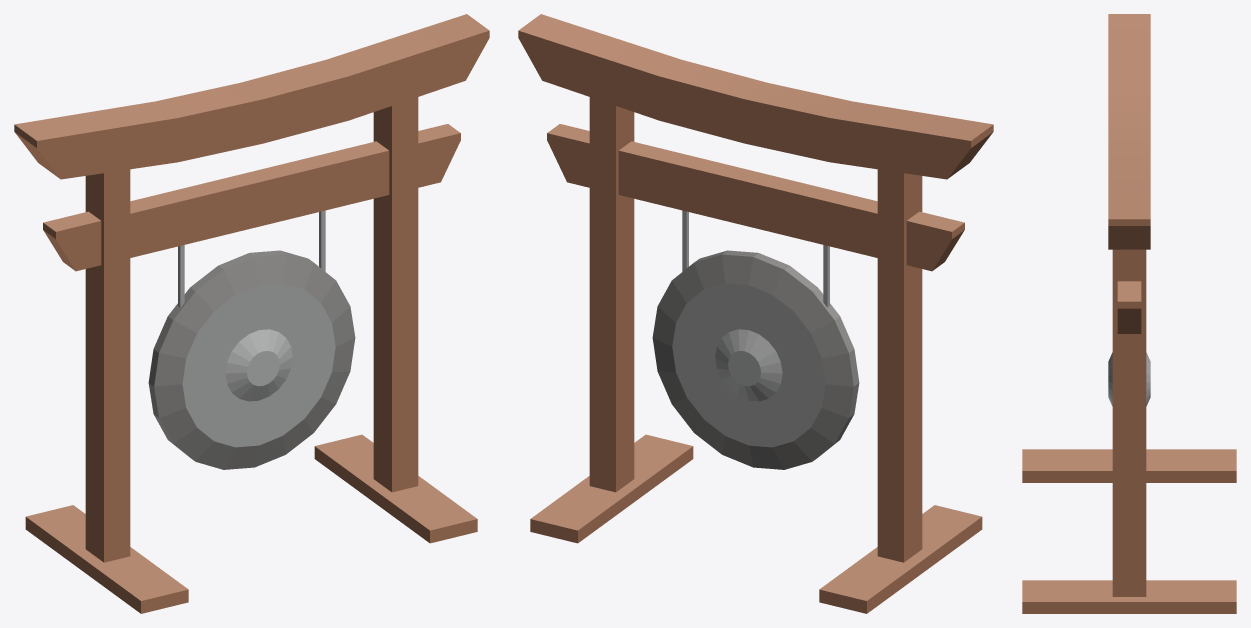
File: gong.fbx
3 views of the same model, side by side, from view 1: azimuth 30°, elevation 25°; view 2: azimuth 150°, elevation 25°; view 3: azimuth 270°, elevation 25° (orthographic). The views are drawn at different scales.
Parts seen in each view (by area): view 1: gong; view 2: gong; view 3: gong.
Part boxes in pixels (left/top/right/bottom): gong: left=14, top=14, right=489, bottom=613; gong: left=518, top=14, right=993, bottom=613; gong: left=1022, top=14, right=1236, bottom=613.
Bounding box in the file's own units: 320 × 307 × 142.
